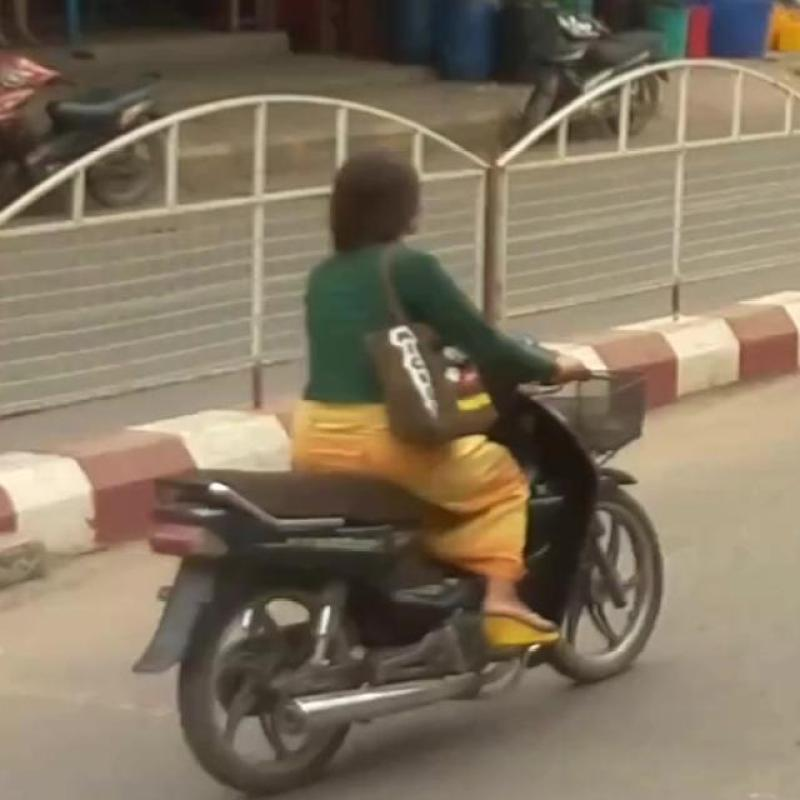nohelmet: (298, 123, 477, 246)
